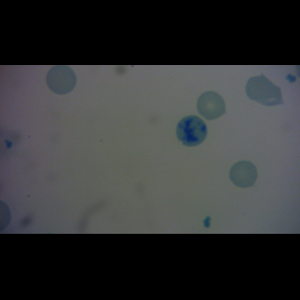aggregate reticulocyte: (175, 114, 209, 148)
erythrocyte: (245, 73, 285, 107), (45, 65, 77, 96), (195, 90, 227, 121), (228, 160, 259, 189)
